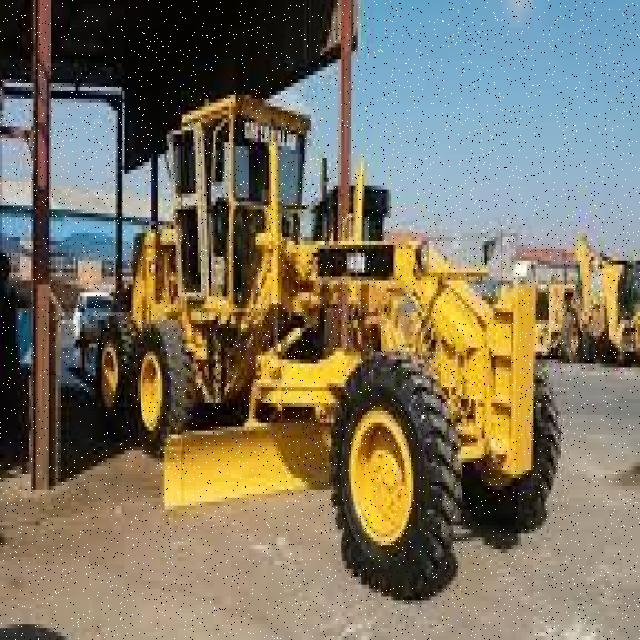Grader: (93, 63, 564, 640)
